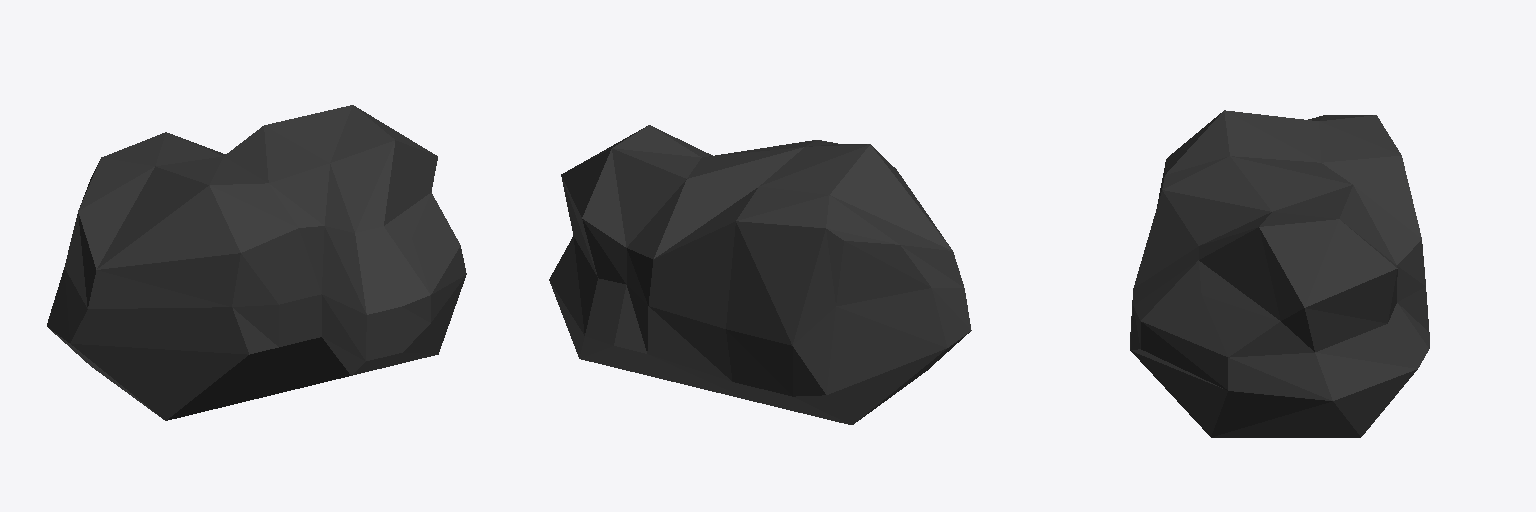
File: rock_big.obj
3 views of the same model, side by side, from view 1: azimuth 30°, elevation 25°; view 2: azimuth 150°, elevation 25°; view 3: azimuth 270°, elevation 25° (orthographic).
Parts seen in each view (by area): view 1: Cube; view 2: Cube; view 3: Cube.
Boxes of the visible parts, x1=… form: Cube: x1=47, y1=105, x2=466, y2=420; Cube: x1=549, y1=125, x2=971, y2=424; Cube: x1=1130, y1=110, x2=1429, y2=437.
Bounding box in the file's own units: 3.38 × 1.81 × 2.25.